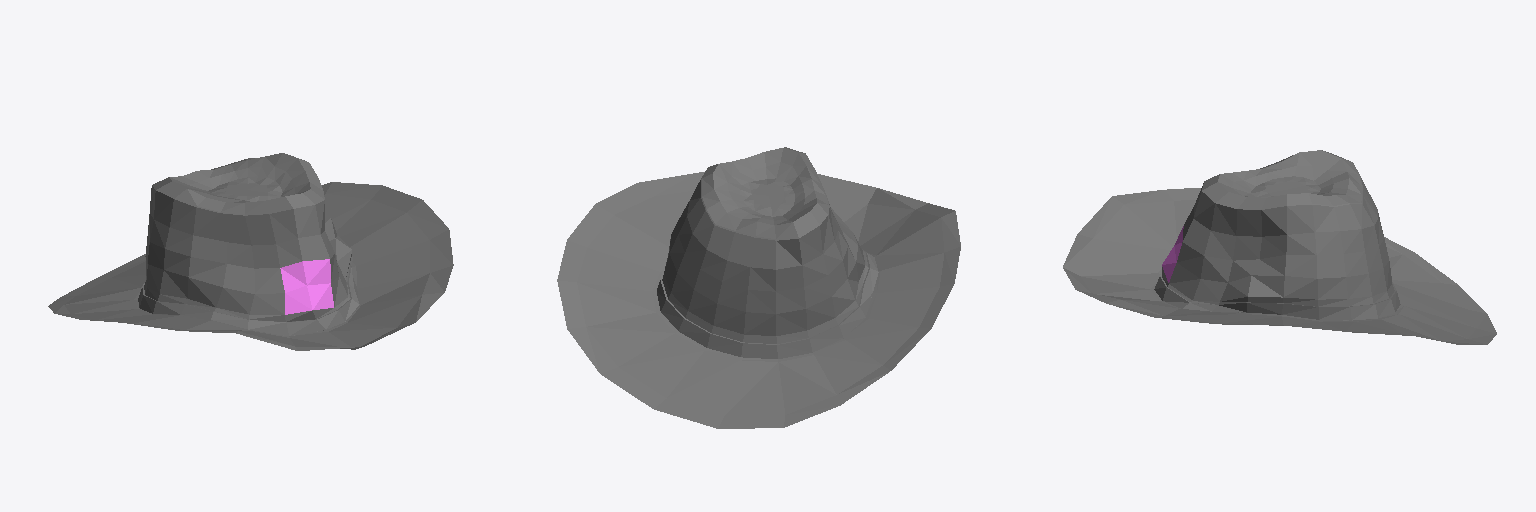
The model's file is hat.obj.
3 views of the same model, side by side, from view 1: azimuth 30°, elevation 25°; view 2: azimuth 150°, elevation 25°; view 3: azimuth 270°, elevation 25° (orthographic).
Visible parts, largest first — view 1: hat_group1; view 2: hat_group1; view 3: hat_group1.
Part boxes in pixels (x1,y1,x2,y2): hat_group1: (48, 153, 453, 350); hat_group1: (557, 147, 960, 428); hat_group1: (1063, 150, 1496, 344).
Size of the model in its own units: 6.35 by 3 by 7.05.